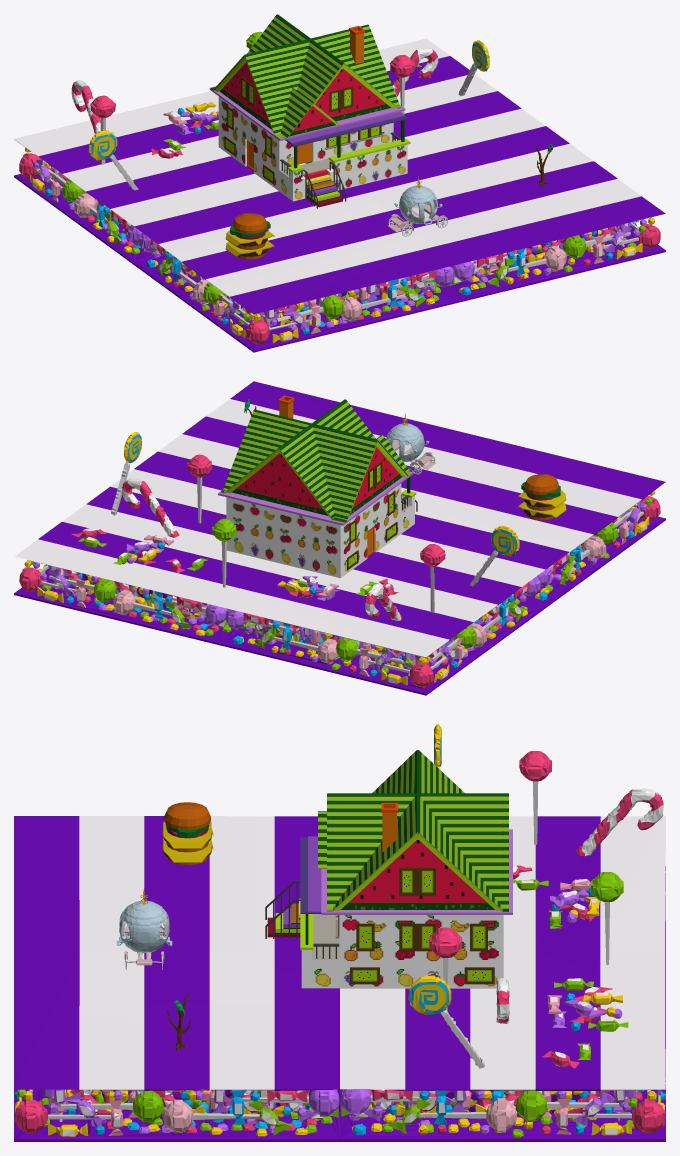
3 renders of one model, top to bottom at view 1: azimuth 30°, elevation 25°; view 2: azimuth 150°, elevation 25°; view 3: azimuth 270°, elevation 25°, orthographic. The views are drawn at different scales.
Parts seen in each view (by area): view 1: TERRAIN_CANDY, Cube.1063, VEHICLES_FANTASY_CARRIAGE, OBJRANDOM_HAMBURGER; view 2: TERRAIN_CANDY, Cube.1063, OBJRANDOM_HAMBURGER, VEHICLES_FANTASY_CARRIAGE; view 3: TERRAIN_CANDY, Cube.1063, OBJRANDOM_HAMBURGER, VEHICLES_FANTASY_CARRIAGE.
Part boxes in pixels (left/top/right/bottom): TERRAIN_CANDY: left=14, top=31, right=665, bottom=352; Cube.1063: left=209, top=14, right=410, bottom=208; VEHICLES_FANTASY_CARRIAGE: left=387, top=176, right=447, bottom=236; OBJRANDOM_HAMBURGER: left=225, top=213, right=274, bottom=259; TERRAIN_CANDY: left=14, top=381, right=665, bottom=695; Cube.1063: left=218, top=395, right=417, bottom=578; OBJRANDOM_HAMBURGER: left=517, top=474, right=566, bottom=520; VEHICLES_FANTASY_CARRIAGE: left=386, top=413, right=435, bottom=474; TERRAIN_CANDY: left=14, top=724, right=665, bottom=1141; Cube.1063: left=265, top=750, right=512, bottom=988; OBJRANDOM_HAMBURGER: left=162, top=802, right=213, bottom=864; VEHICLES_FANTASY_CARRIAGE: left=116, top=889, right=172, bottom=969.
Bounding box in the file's own units: 4059 × 1562 × 4000.
30 materials, 4 textured.
